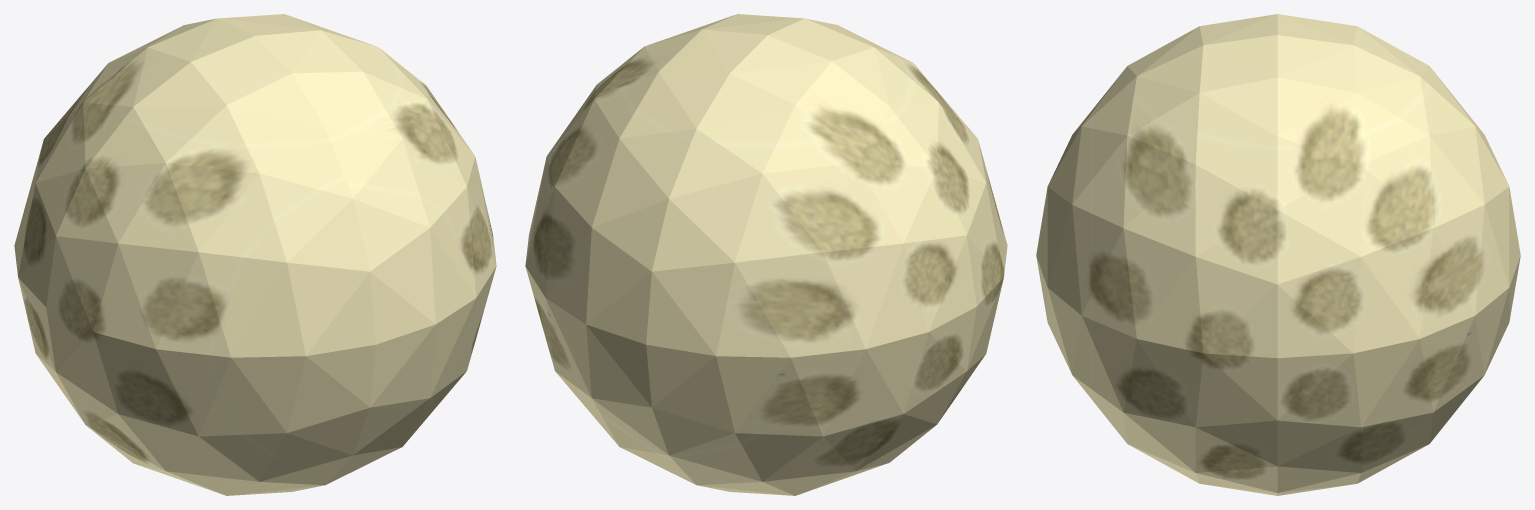
File: GolfBall.glb
3 renders of one model, left to right at view 1: azimuth 30°, elevation 25°; view 2: azimuth 150°, elevation 25°; view 3: azimuth 270°, elevation 25°, orthographic.
Visible parts, largest first — view 1: GolfBall; view 2: GolfBall; view 3: GolfBall.
Part boxes in pixels (x1=…): GolfBall: x1=14, y1=14, x2=496, y2=495; GolfBall: x1=525, y1=14, x2=1007, y2=495; GolfBall: x1=1036, y1=14, x2=1520, y2=495.
Size of the model in its own units: 15.9 by 15.9 by 15.9.
1 material, 1 textured.
